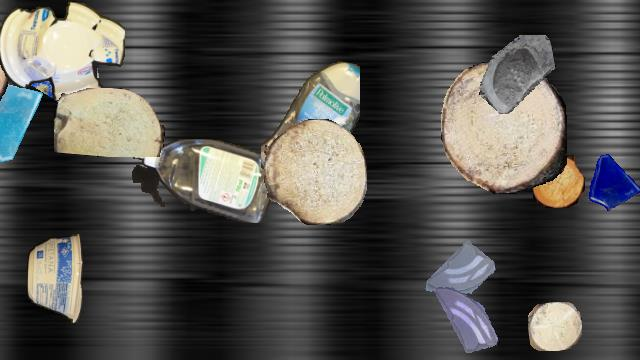glass: (8, 30, 102, 124), (477, 35, 555, 113), (428, 285, 502, 359), (423, 238, 495, 310), (0, 75, 52, 165), (583, 151, 640, 211)
plastic: (261, 57, 359, 191), (0, 1, 124, 101), (132, 139, 278, 223), (27, 234, 83, 322)
wood: (441, 61, 567, 193), (264, 119, 366, 225), (54, 88, 164, 156), (532, 155, 584, 207), (528, 302, 582, 350), (0, 25, 8, 123)
